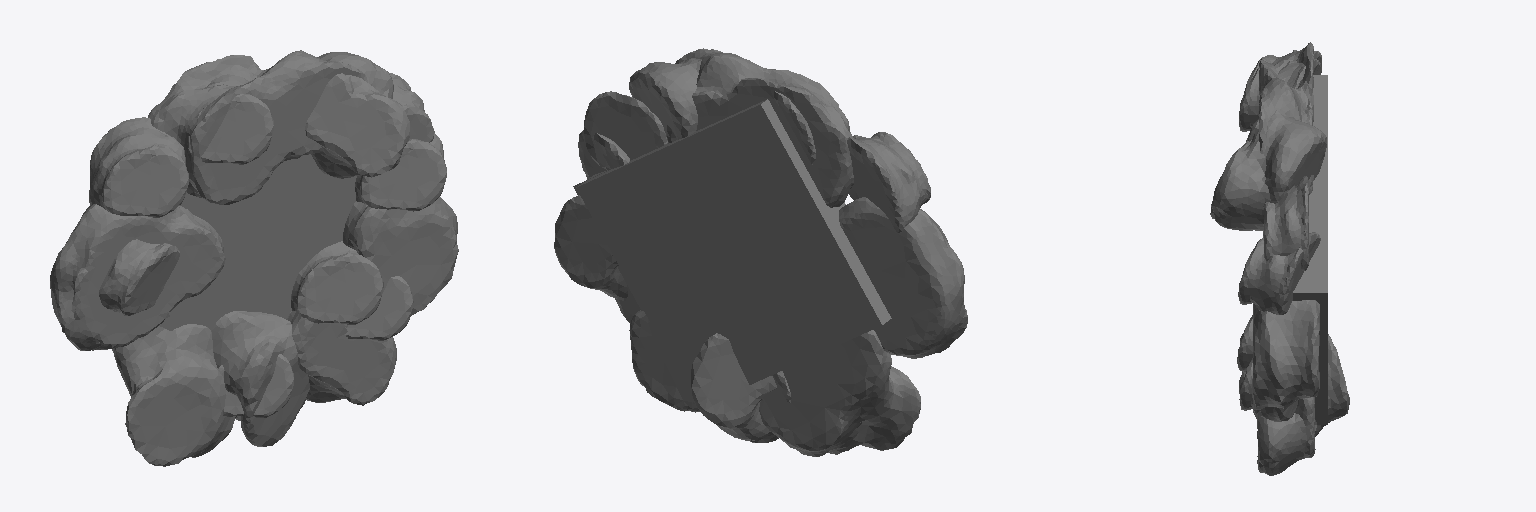
Rendered from rocks4.obj.
3 views of the same model, side by side, from view 1: azimuth 30°, elevation 25°; view 2: azimuth 150°, elevation 25°; view 3: azimuth 270°, elevation 25° (orthographic).
Parts seen in each view (by area): view 1: Cube, ShortFlatRock_B, ShortFlatRock_A, ShortFlatRock_C, ShortFlatRock_E.001, ShortFlatRock_D, ShortFlatRock_F.004, ShortFlatRock_D.001, ShortFlatRock_E, ShortFlatRock_F.007, ShortFlatRock_F.003, ShortFlatRock_F.002 (+4 smaller); view 2: Cube, ShortFlatRock_C, ShortFlatRock_A, ShortFlatRock_B, ShortFlatRock_D.001, ShortFlatRock_F.004, ShortFlatRock_D, ShortFlatRock_F, ShortFlatRock_E.001, ShortFlatRock_E, ShortFlatRock_F.003, ShortFlatRock_F.006; view 3: ShortFlatRock_E.001, ShortFlatRock_D, Cube, ShortFlatRock_F.003, ShortFlatRock_B, ShortFlatRock_E, ShortFlatRock_F, ShortFlatRock_F.006, ShortFlatRock_D.001, ShortFlatRock_F.005, ShortFlatRock_F.007.
Part boxes in pixels (x1,y1,x2,y2): Cube: (159, 154, 356, 331); ShortFlatRock_B: (148, 50, 367, 204); ShortFlatRock_A: (50, 204, 225, 350); ShortFlatRock_C: (112, 324, 235, 466); ShortFlatRock_E.001: (305, 52, 409, 178); ShortFlatRock_D: (343, 197, 458, 315); ShortFlatRock_F.004: (89, 117, 188, 217); ShortFlatRock_D.001: (212, 311, 309, 446); ShortFlatRock_E: (286, 311, 396, 405); ShortFlatRock_F.007: (291, 241, 383, 324); ShortFlatRock_F.003: (355, 128, 446, 211); ShortFlatRock_F.002: (99, 239, 179, 315); Cube: (576, 99, 891, 406); ShortFlatRock_C: (759, 330, 920, 456); ShortFlatRock_A: (839, 197, 967, 358); ShortFlatRock_B: (667, 48, 853, 207); ShortFlatRock_D.001: (691, 333, 778, 442); ShortFlatRock_F.004: (847, 132, 930, 232); ShortFlatRock_D: (554, 195, 627, 300); ShortFlatRock_F: (584, 91, 667, 170); ShortFlatRock_E.001: (629, 58, 701, 139); ShortFlatRock_E: (629, 310, 699, 412); ShortFlatRock_F.003: (578, 130, 629, 178); ShortFlatRock_F.006: (774, 83, 836, 164); ShortFlatRock_E.001: (1210, 110, 1326, 230); ShortFlatRock_D: (1252, 300, 1319, 413); Cube: (1293, 75, 1327, 424); ShortFlatRock_F.003: (1238, 232, 1320, 314); ShortFlatRock_B: (1259, 42, 1313, 194); ShortFlatRock_E: (1257, 397, 1315, 475); ShortFlatRock_F: (1263, 176, 1308, 271); ShortFlatRock_F.006: (1239, 59, 1320, 131); ShortFlatRock_D.001: (1240, 333, 1349, 436); ShortFlatRock_F.005: (1239, 358, 1297, 421); ShortFlatRock_F.007: (1237, 315, 1252, 370).
Size of the model in its own units: 0.1317 by 0.1213 by 0.0399.